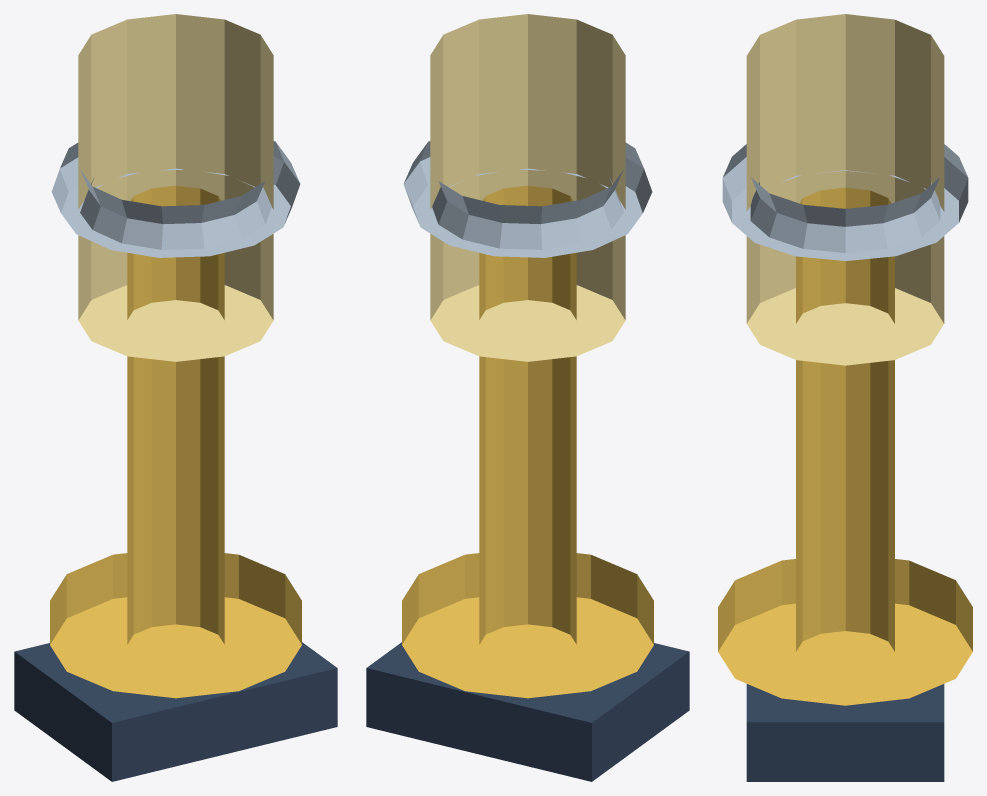
The model's file is minglora_golden_microphone.gltf.
The picture shows the model from 3 angles, left to right: view 1: azimuth 30°, elevation 25°; view 2: azimuth 150°, elevation 25°; view 3: azimuth 270°, elevation 25°; orthographic projection.
Visible parts, largest first — view 1: minglora_golden_microphone_1, minglora_golden_microphone_0, minglora_golden_microphone_3, minglora_golden_microphone_4, minglora_golden_microphone_2; view 2: minglora_golden_microphone_1, minglora_golden_microphone_0, minglora_golden_microphone_3, minglora_golden_microphone_4, minglora_golden_microphone_2; view 3: minglora_golden_microphone_1, minglora_golden_microphone_0, minglora_golden_microphone_4, minglora_golden_microphone_3, minglora_golden_microphone_2.
Boxes of the visible parts, <box> form: minglora_golden_microphone_1: <box>78,14,273,361</box>; minglora_golden_microphone_0: <box>127,185,224,644</box>; minglora_golden_microphone_3: <box>14,642,337,781</box>; minglora_golden_microphone_4: <box>50,553,301,698</box>; minglora_golden_microphone_2: <box>51,141,300,257</box>; minglora_golden_microphone_1: <box>430,14,625,361</box>; minglora_golden_microphone_0: <box>479,185,576,644</box>; minglora_golden_microphone_3: <box>366,642,689,781</box>; minglora_golden_microphone_4: <box>402,553,653,698</box>; minglora_golden_microphone_2: <box>403,141,652,257</box>; minglora_golden_microphone_1: <box>746,14,944,365</box>; minglora_golden_microphone_0: <box>796,187,894,651</box>; minglora_golden_microphone_4: <box>718,559,972,705</box>; minglora_golden_microphone_3: <box>746,684,944,781</box>; minglora_golden_microphone_2: <box>722,144,968,260</box>.
Size of the model in its own units: 0.64 by 1.85 by 0.62.
